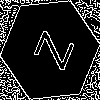Z: (25, 25, 75, 71)
